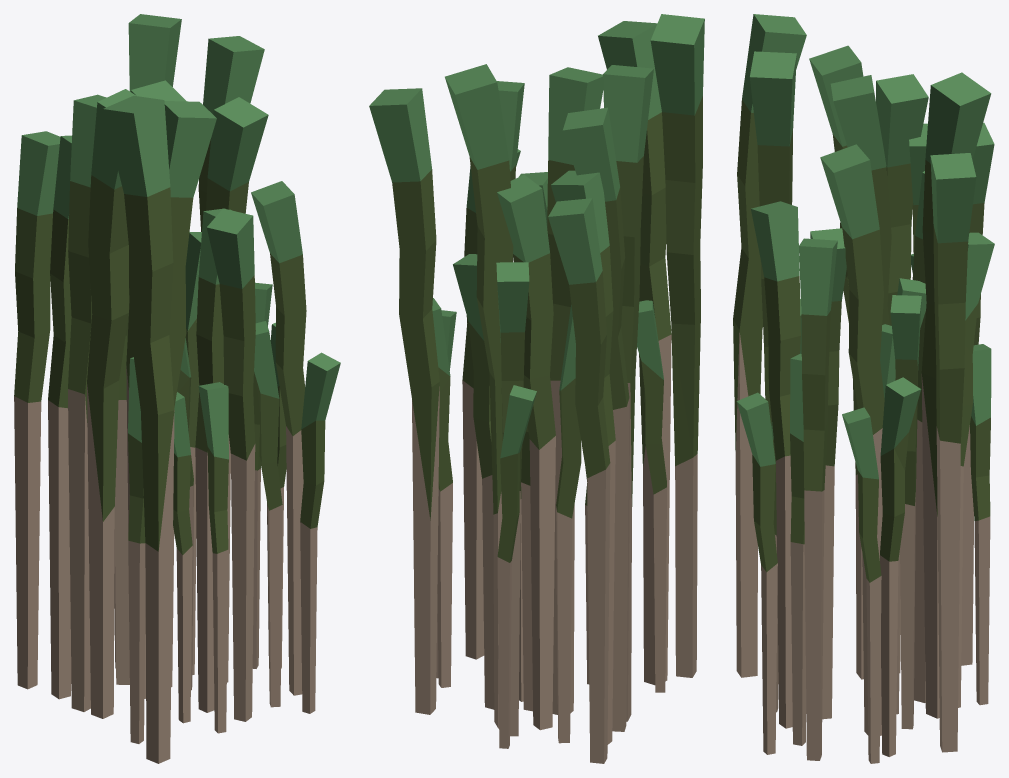
File: PlainsShrub2.fbx
3 renders of one model, left to right at view 1: azimuth 30°, elevation 25°; view 2: azimuth 150°, elevation 25°; view 3: azimuth 270°, elevation 25°, orthographic. The views are drawn at different scales.
Parts seen in each view (by area): view 1: Stick.001; view 2: Stick.001; view 3: Stick.001.
Boxes of the visible parts, left/top/right/bottom form: Stick.001: left=14, top=14, right=340, bottom=763; Stick.001: left=369, top=14, right=704, bottom=763; Stick.001: left=733, top=14, right=994, bottom=763.
Size of the model in its own units: 187 by 495 by 181.
